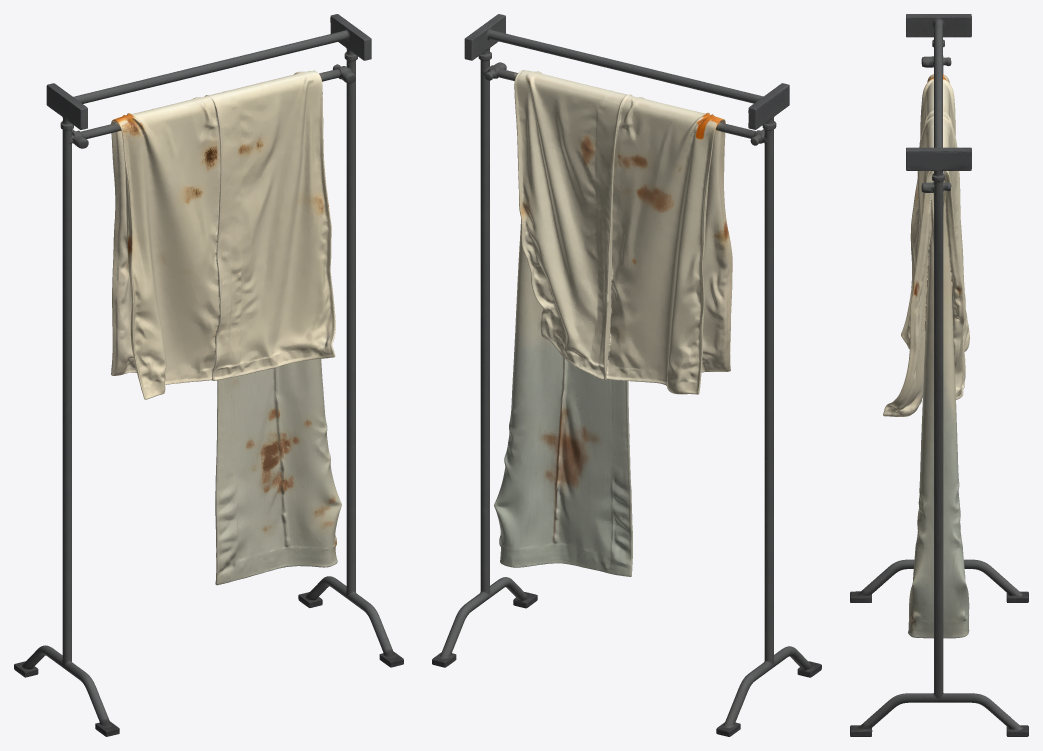
The model's file is CompleteSupportedBloodiedLinenRack.glb.
3 renders of one model, left to right at view 1: azimuth 30°, elevation 25°; view 2: azimuth 150°, elevation 25°; view 3: azimuth 270°, elevation 25°, orthographic. The views are drawn at different scales.
Bounding box in the file's own units: 0.9785 × 1.9 × 0.5268.
1 material, 1 textured.
